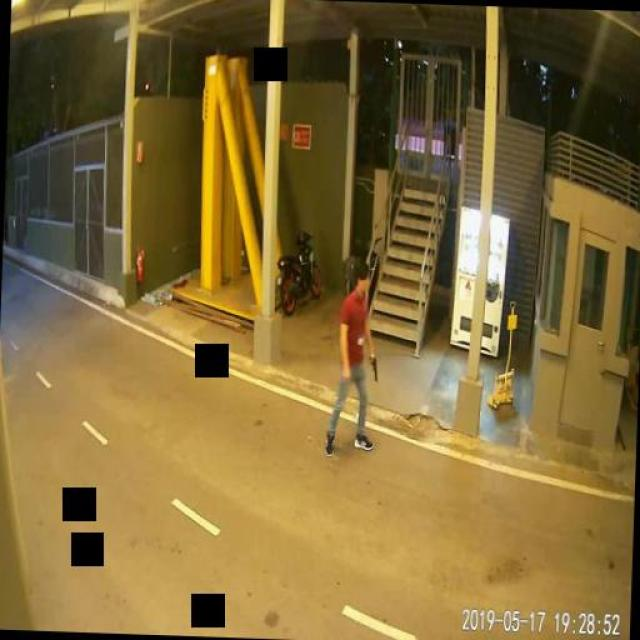gun: (368, 354, 378, 378)
